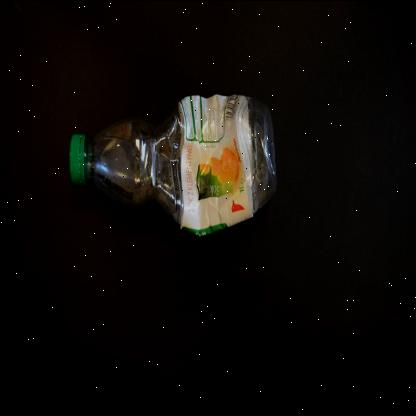Plastic Bottle: (68, 93, 274, 235)
